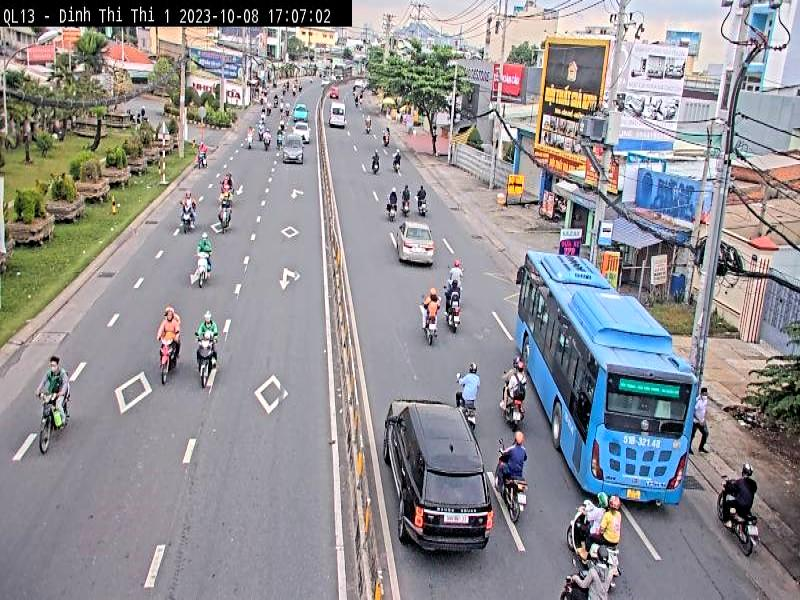bus: (516, 241, 707, 509)
car: (382, 385, 493, 573), (384, 214, 446, 274)
motorcycle: (716, 473, 762, 573), (30, 385, 69, 445), (190, 329, 224, 393), (145, 328, 179, 376), (187, 240, 217, 285)
